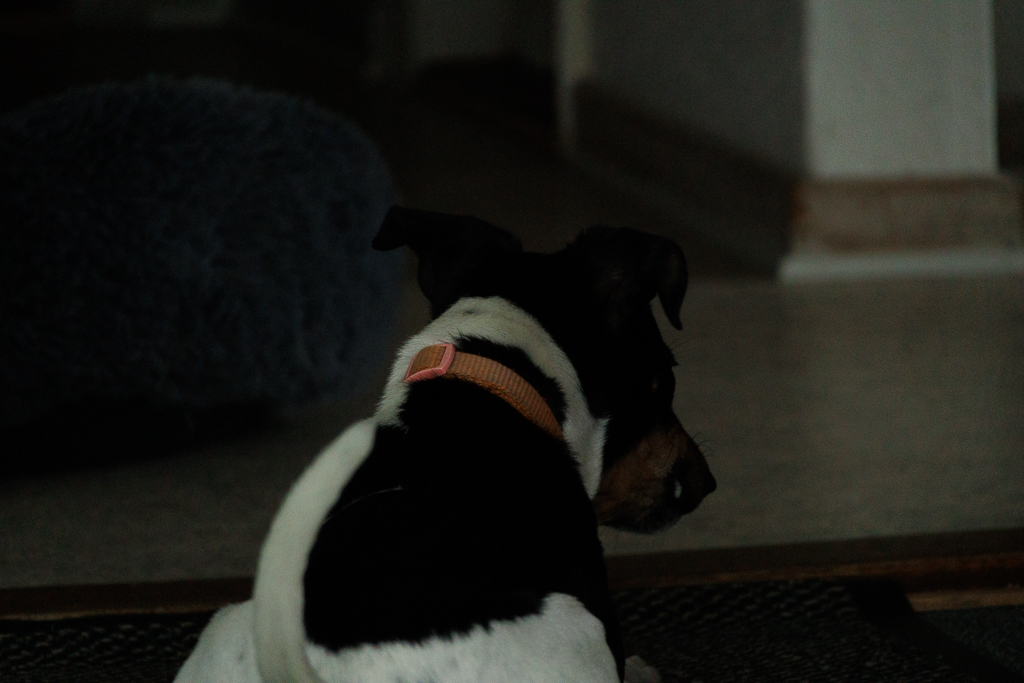Dog: (163, 184, 730, 683)
